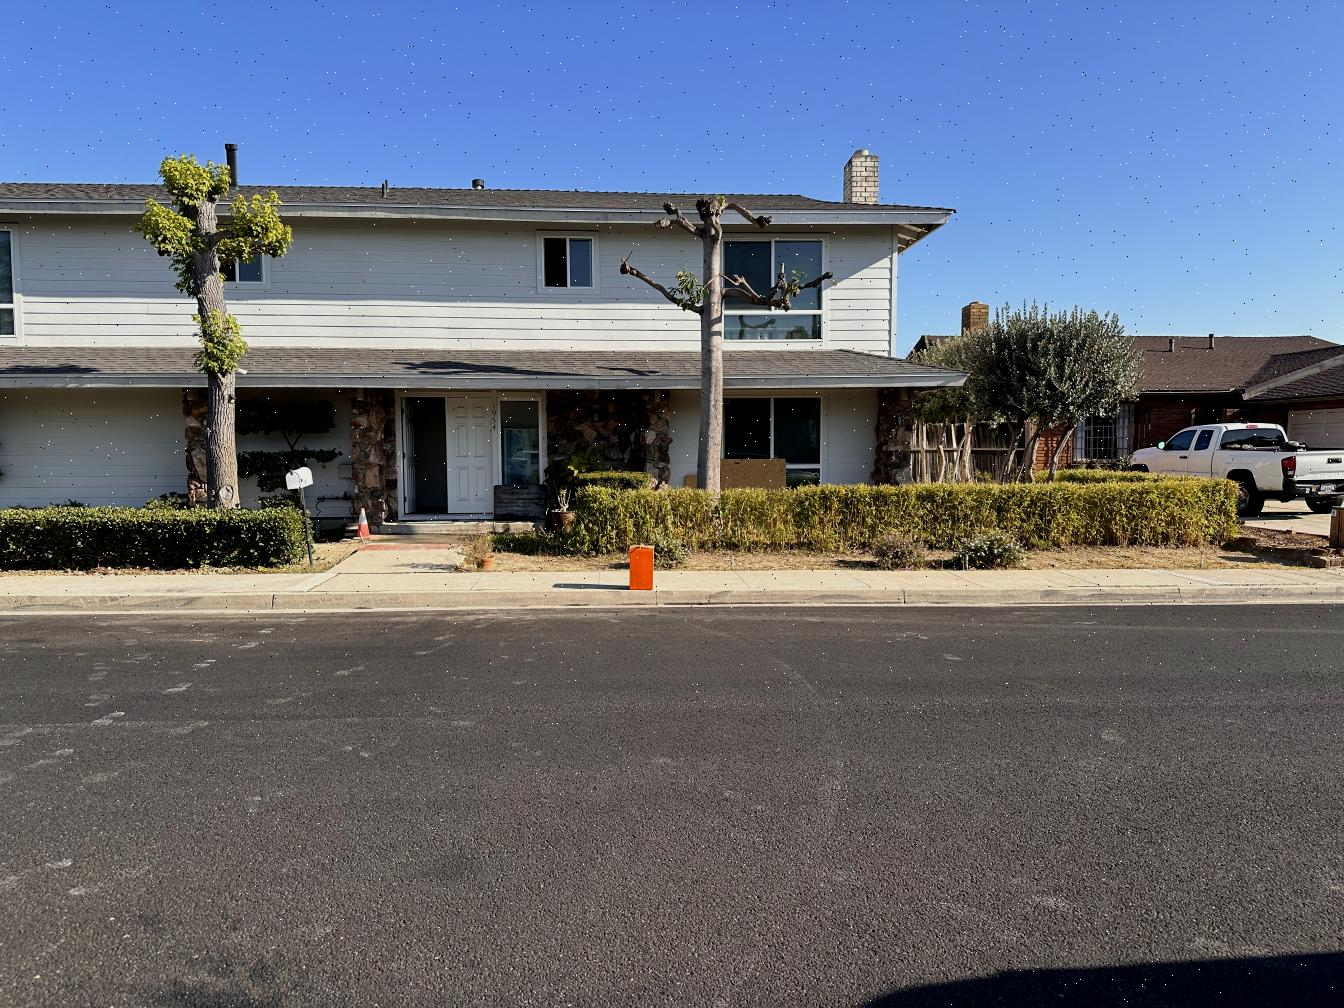curbs-laRr: (3, 590, 840, 609), (844, 580, 1344, 602)
orange box: (628, 543, 656, 591)
